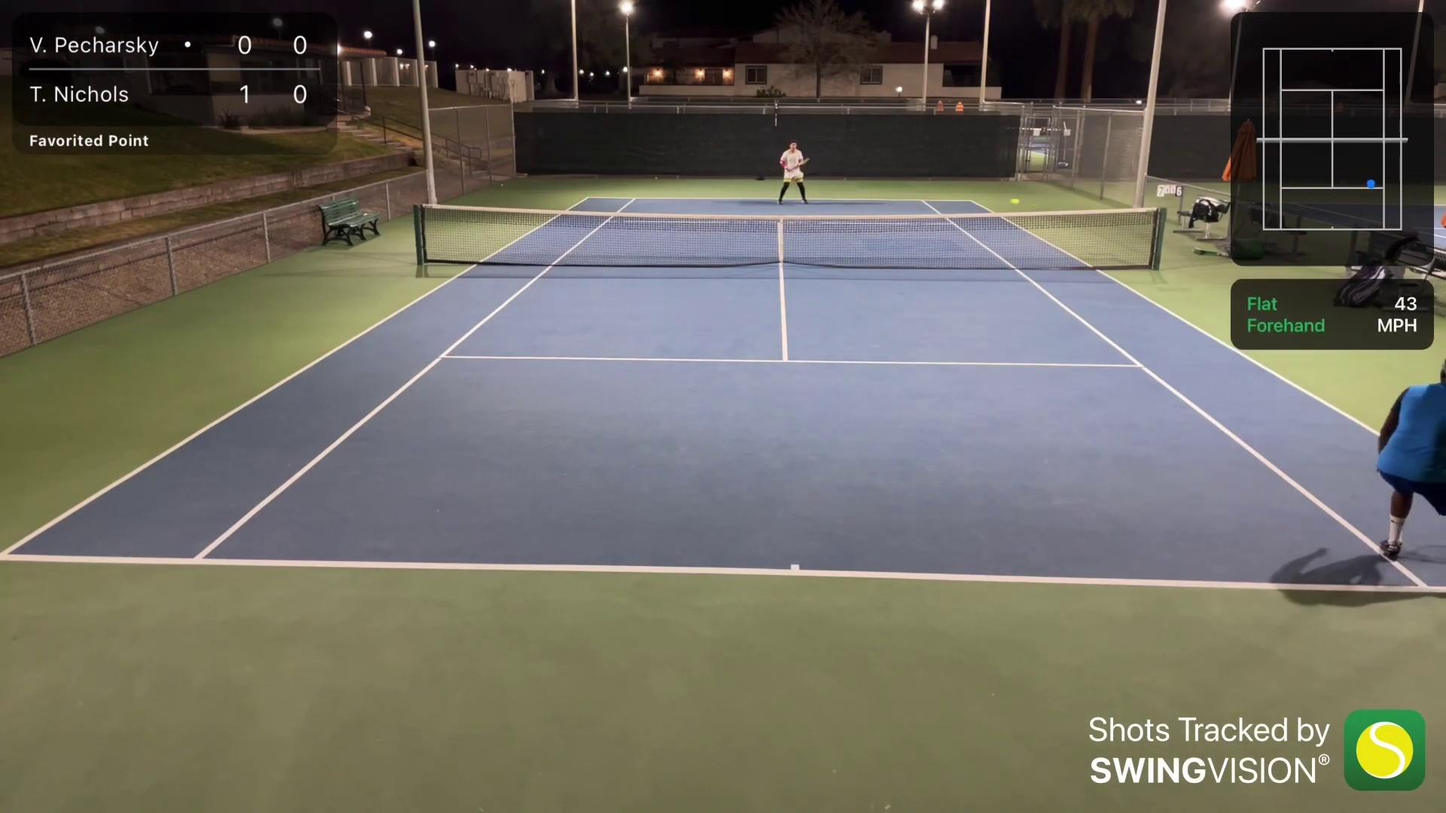ball: (1011, 196, 1019, 206)
